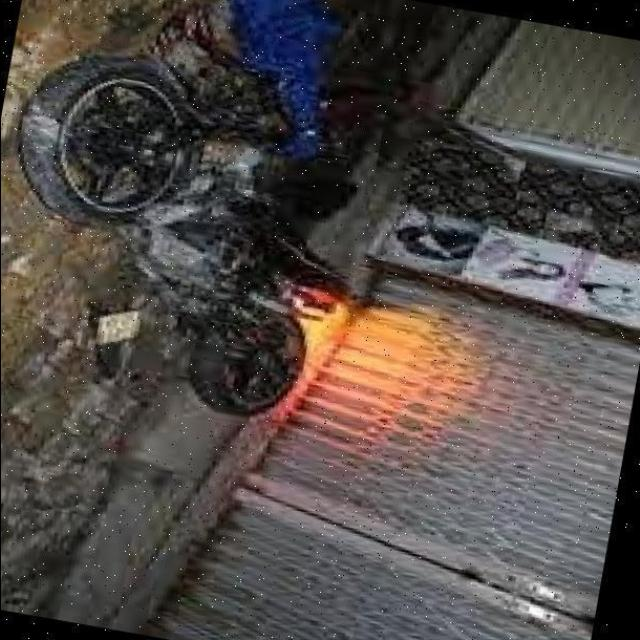accident: (0, 0, 416, 466)
